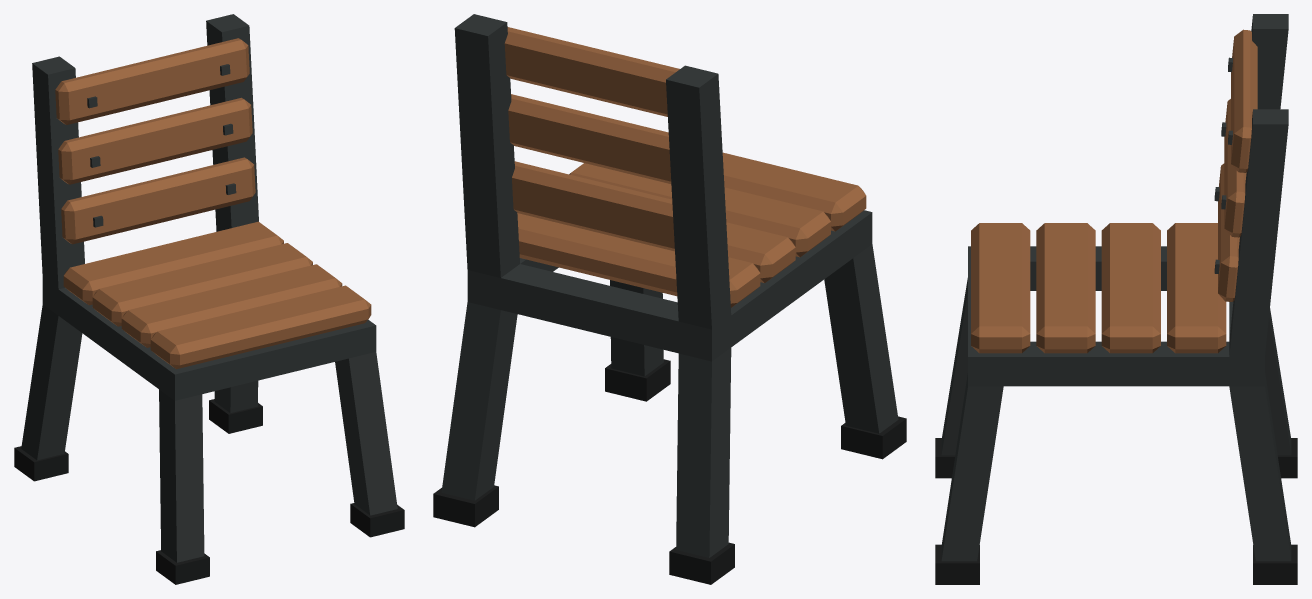
File: railwood-chair.glb
3 views of the same model, side by side, from view 1: azimuth 30°, elevation 25°; view 2: azimuth 150°, elevation 25°; view 3: azimuth 270°, elevation 25° (orthographic). The views are drawn at different scales.
Parts seen in each view (by area): view 1: merged-Four-piece oak seat, merged-One-piece formed steel chair frame, Four replaceable rubber boot feet; view 2: merged-One-piece formed steel chair frame, merged-Four-piece oak seat, Four replaceable rubber boot feet; view 3: merged-One-piece formed steel chair frame, merged-Four-piece oak seat, Four replaceable rubber boot feet.
Boxes of the visible parts, x1=… form: merged-Four-piece oak seat: x1=55, y1=38, x2=371, y2=369; merged-One-piece formed steel chair frame: x1=21, y1=14, x2=397, y2=562; Four replaceable rubber boot feet: x1=14, y1=399, x2=404, y2=584; merged-One-piece formed steel chair frame: x1=441, y1=14, x2=898, y2=557; merged-Four-piece oak seat: x1=504, y1=27, x2=866, y2=307; Four replaceable rubber boot feet: x1=433, y1=359, x2=906, y2=584; merged-One-piece formed steel chair frame: x1=941, y1=14, x2=1291, y2=561; merged-Four-piece oak seat: x1=971, y1=29, x2=1257, y2=353; Four replaceable rubber boot feet: x1=935, y1=438, x2=1297, y2=584.
Bounding box in the file's own units: 0.5 × 0.842 × 0.61.
